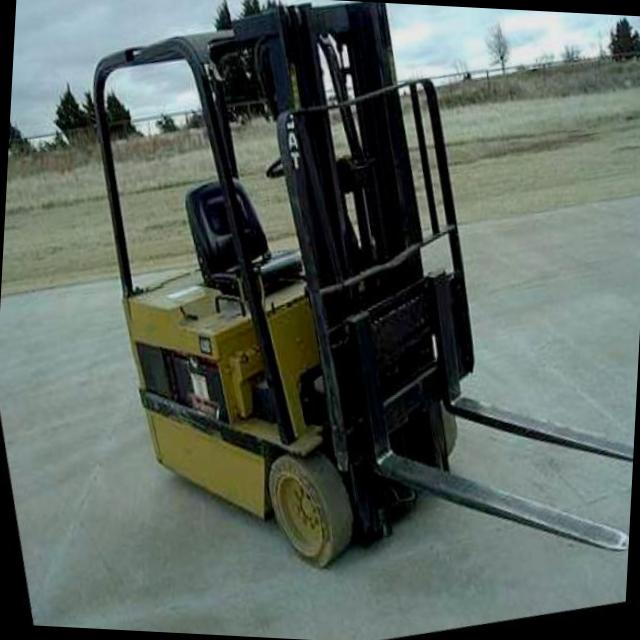forklift: (50, 0, 543, 621)
